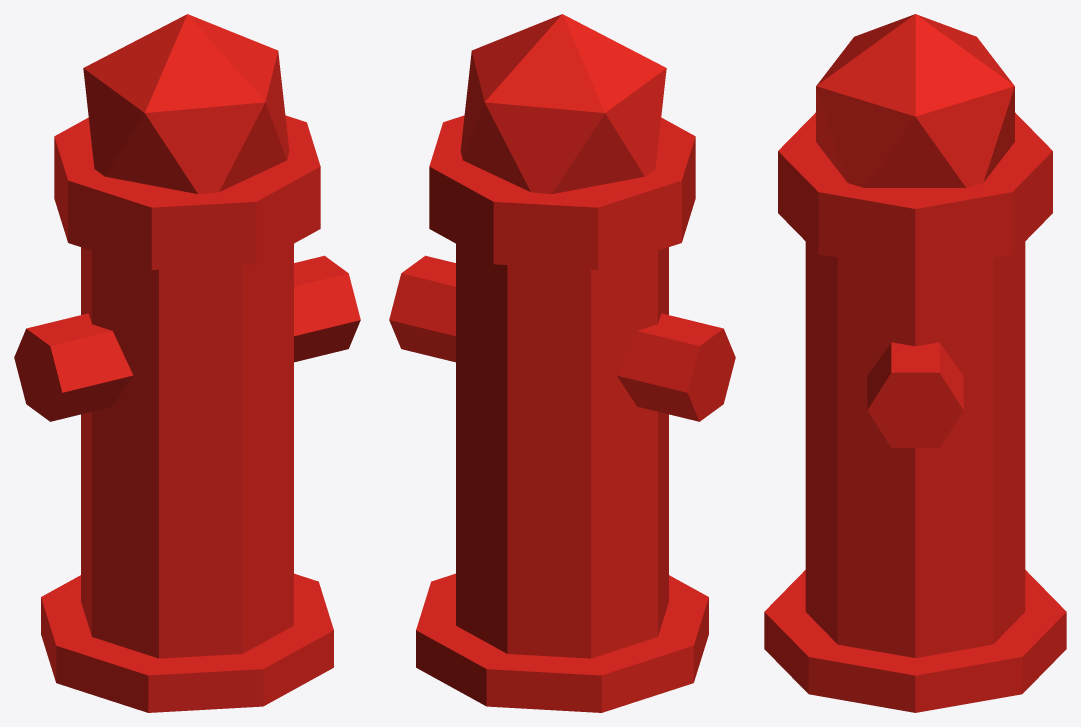
Rendered from fire_hydrant.glb.
3 renders of one model, left to right at view 1: azimuth 30°, elevation 25°; view 2: azimuth 150°, elevation 25°; view 3: azimuth 270°, elevation 25°, orthographic.
Parts seen in each view (by area): view 1: fire_hydrant; view 2: fire_hydrant; view 3: fire_hydrant.
Part boxes in pixels (box(x1,y1,x2,y2)): fire_hydrant: box(14, 14, 360, 712); fire_hydrant: box(389, 14, 735, 712); fire_hydrant: box(764, 14, 1066, 712).
Bounding box in the file's own units: 0.5 × 1.02 × 0.44.
